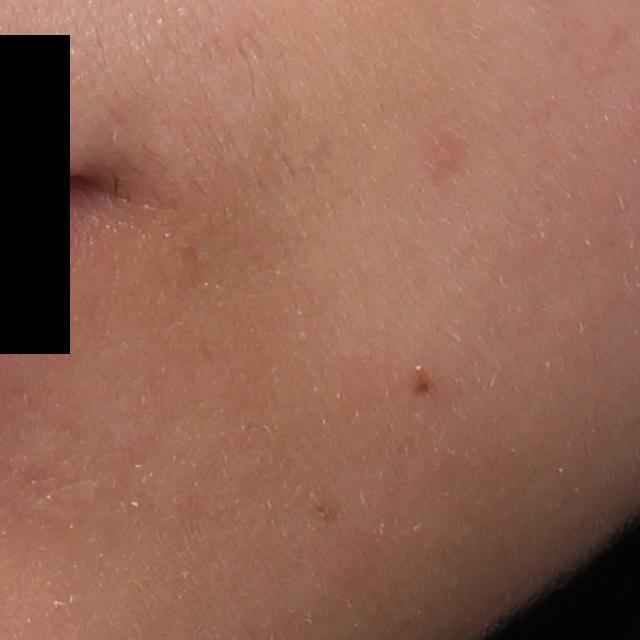nevus: (409, 374, 436, 399)
